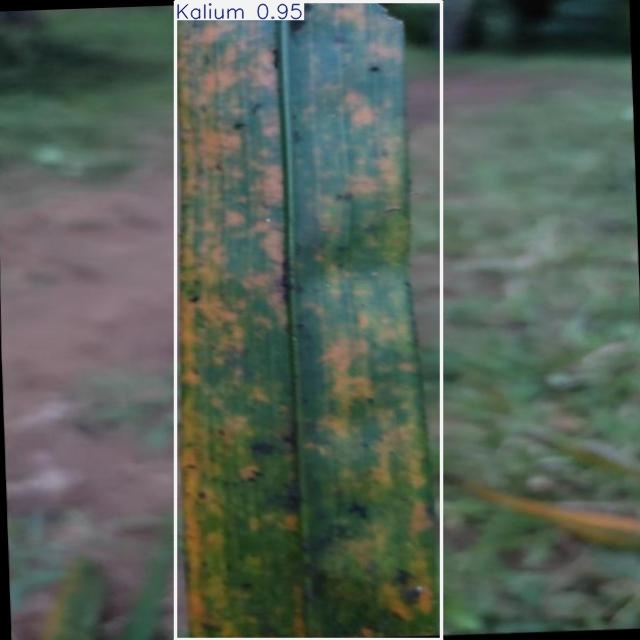Kalium: (175, 1, 442, 639)
